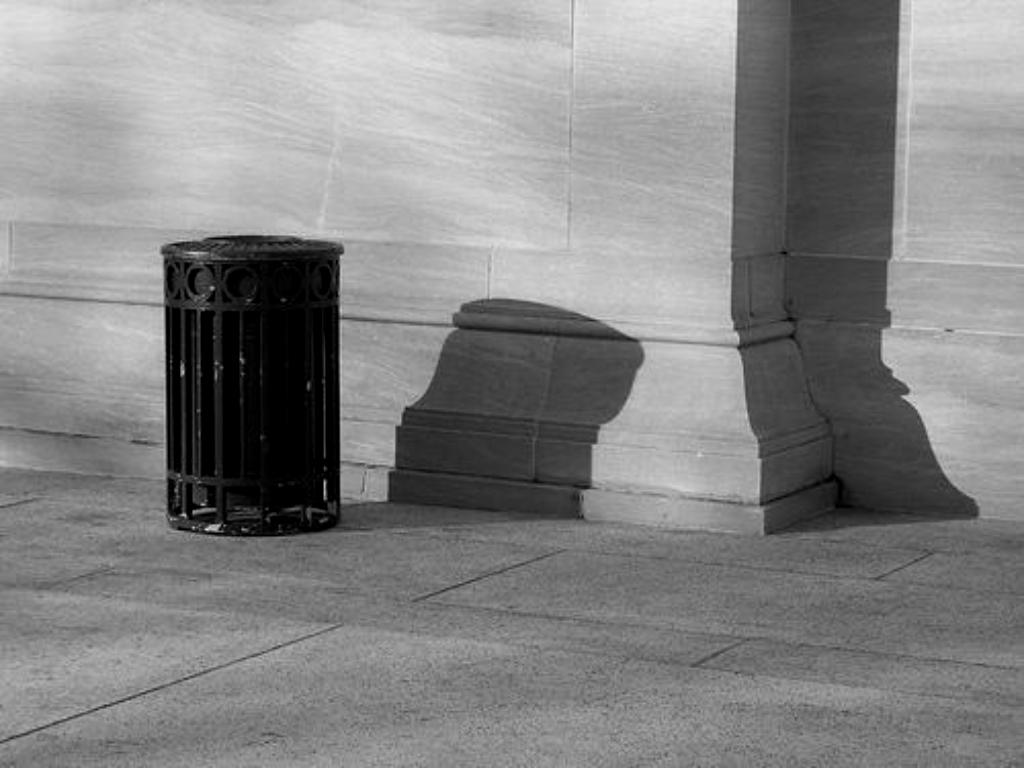dustbin: (151, 227, 360, 537)
